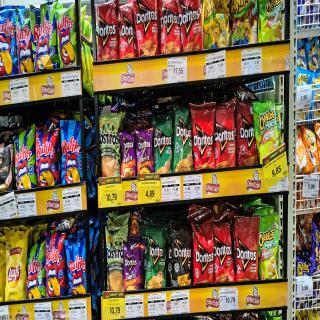food-box: (187, 102, 215, 172), (29, 2, 57, 68), (251, 99, 279, 158), (232, 216, 258, 276), (13, 122, 36, 188), (44, 230, 66, 298), (34, 128, 60, 184), (259, 215, 279, 287), (59, 122, 82, 184), (133, 0, 159, 54), (169, 224, 192, 285), (235, 99, 256, 165), (214, 221, 236, 281), (177, 0, 203, 50), (5, 241, 26, 302), (95, 4, 118, 59), (215, 106, 235, 168), (55, 10, 77, 66), (174, 105, 192, 173), (100, 116, 120, 177), (66, 241, 88, 294), (206, 1, 229, 51), (159, 1, 181, 53), (15, 14, 34, 74), (0, 8, 17, 73), (117, 3, 137, 57), (133, 129, 155, 172), (28, 249, 45, 299)
